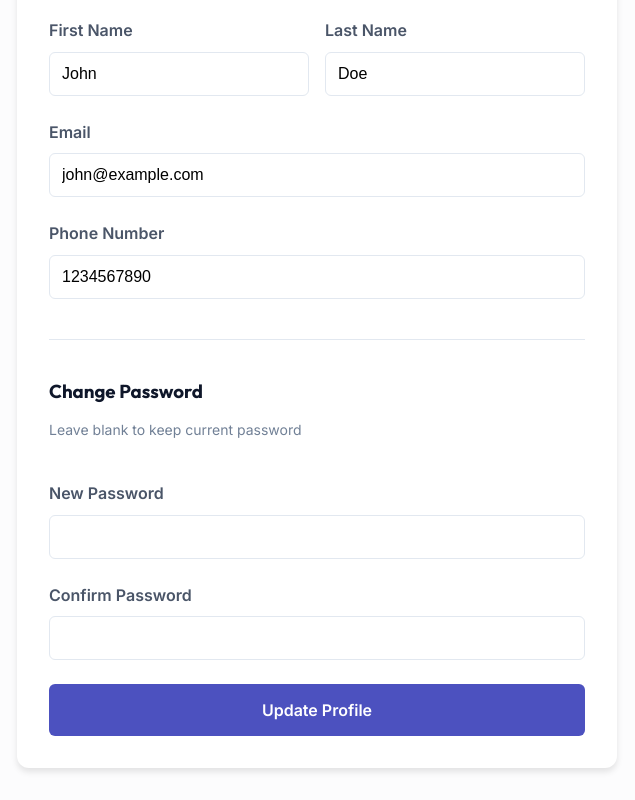
it: Profile Component › shows error if passwords do not match
(page scrolled)
expect the field showing "John" is shown: met, box [49,52,309,96]
In the password field labelled "New Password": (317, 536) [49,514,585,558], type "pass1"
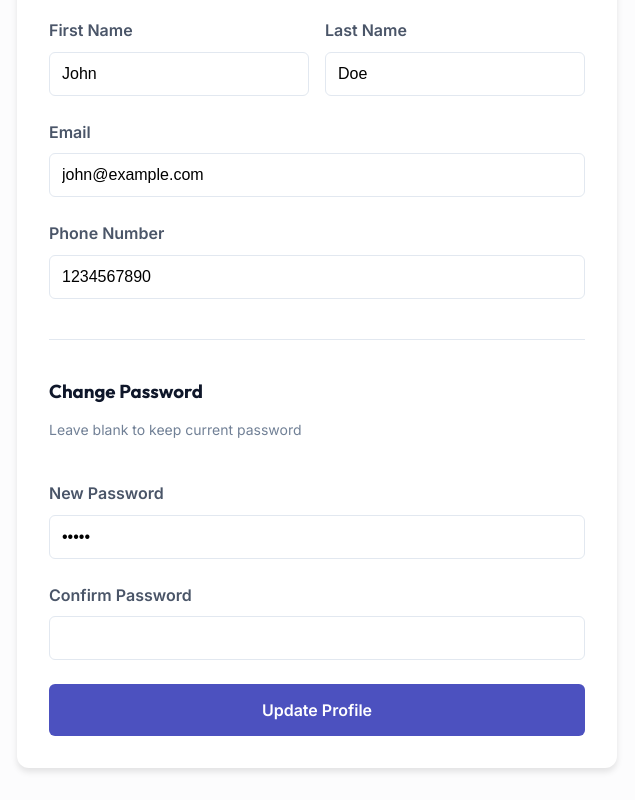
In the password field labelled "Confirm Password": (317, 638) [49,616,585,660], type "pass2"
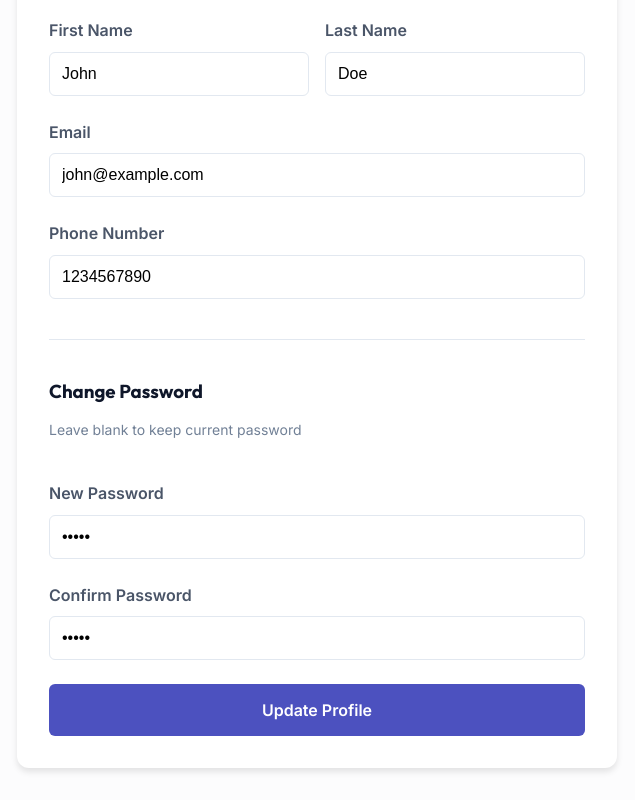
Click the button "Update Profile": (317, 710) [49,684,585,736]
(page scrolled)
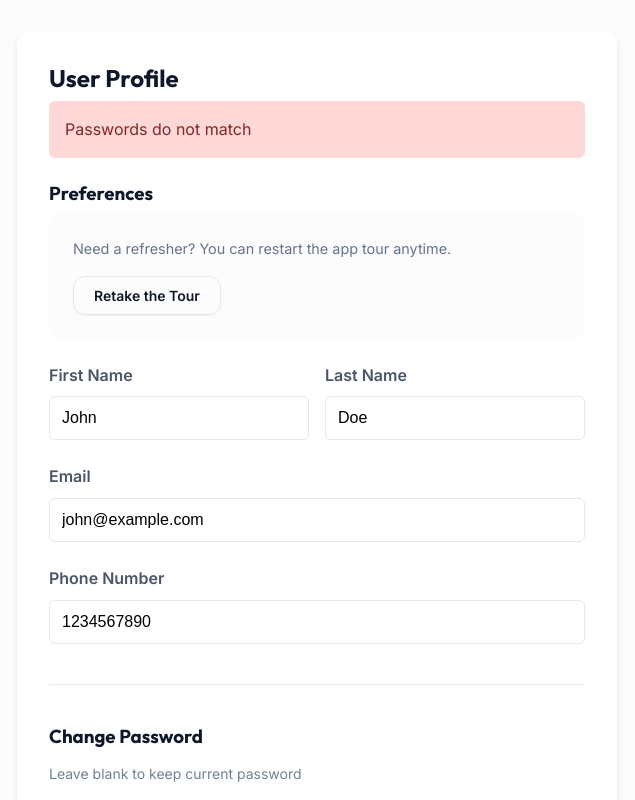
expect the text "Passwords do not match" is shown: met, box [49,101,585,158]
